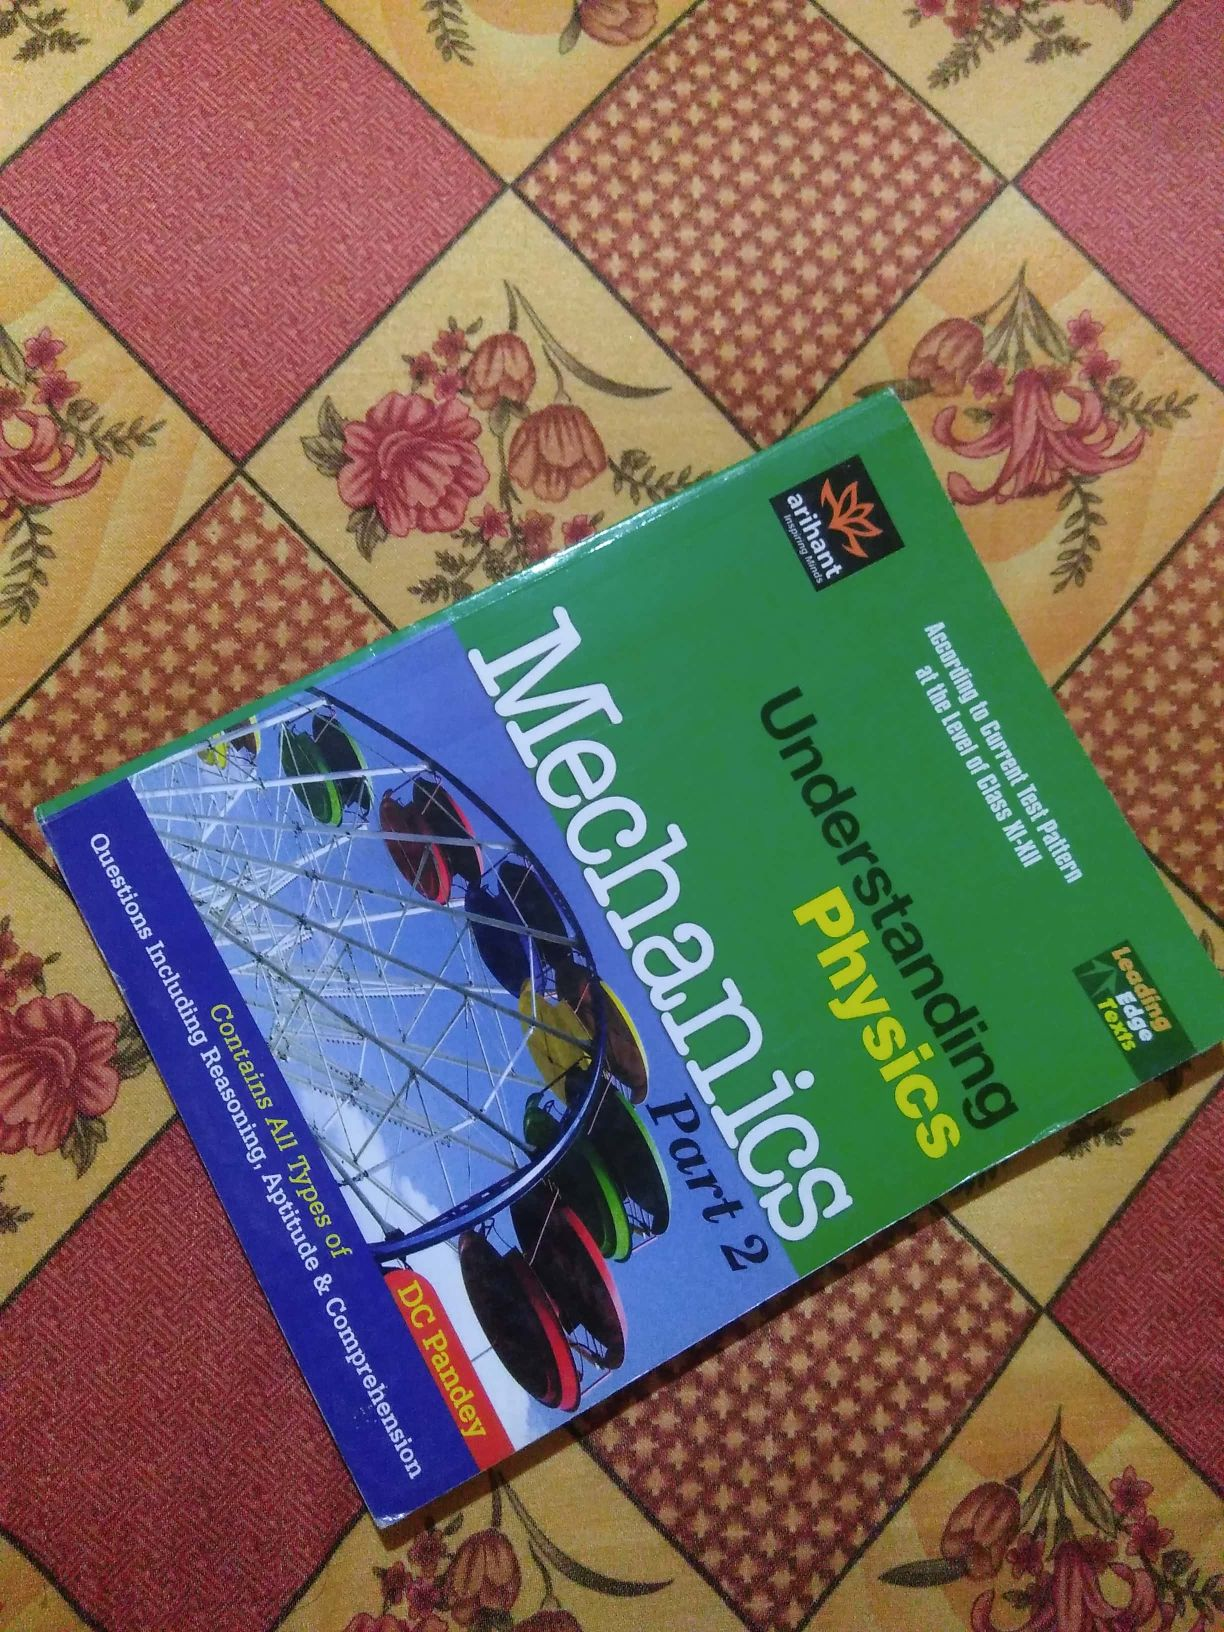mechanics: (31, 454, 1224, 1435)
